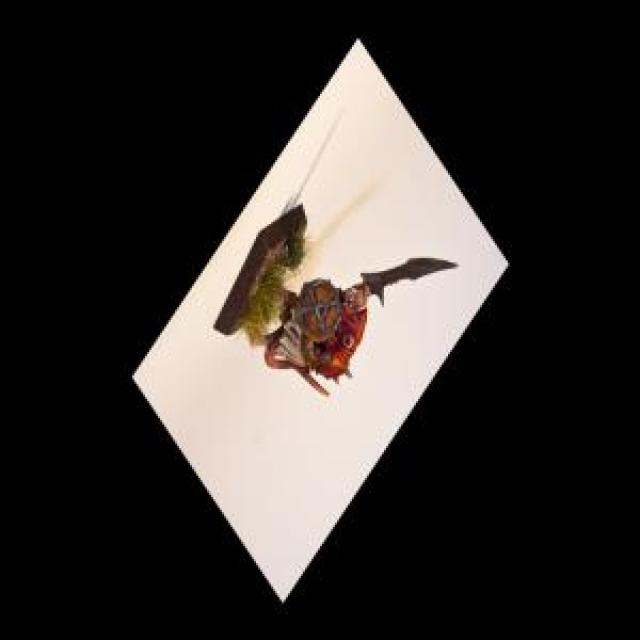knife: (345, 252, 462, 311)
